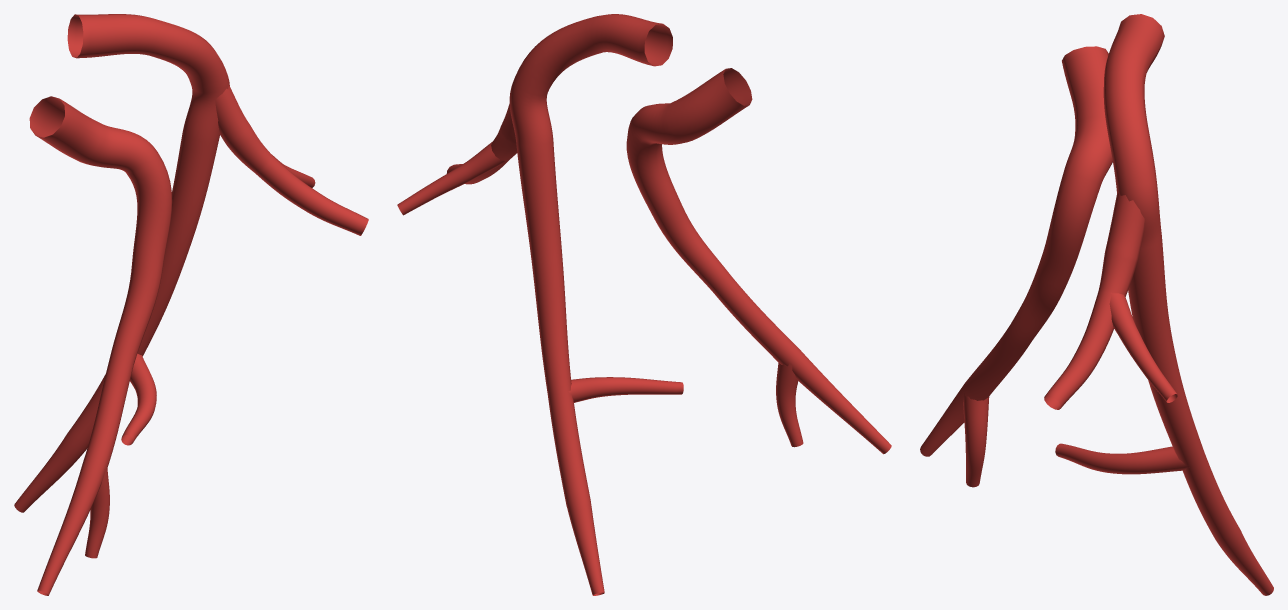
3 views of the same model, side by side, from view 1: azimuth 30°, elevation 25°; view 2: azimuth 150°, elevation 25°; view 3: azimuth 270°, elevation 25° (orthographic). The views are drawn at different scales.
Parts seen in each view (by area): view 1: 左肺前段动脉; view 2: 左肺前段动脉; view 3: 左肺前段动脉.
Boxes of the visible parts, x1,y1,x2,y2 form: 左肺前段动脉: (14,14,368,595); 左肺前段动脉: (397,14,891,595); 左肺前段动脉: (920,14,1273,595).
Bounding box in the file's own units: 0.1049 × 0.1383 × 0.0765.
